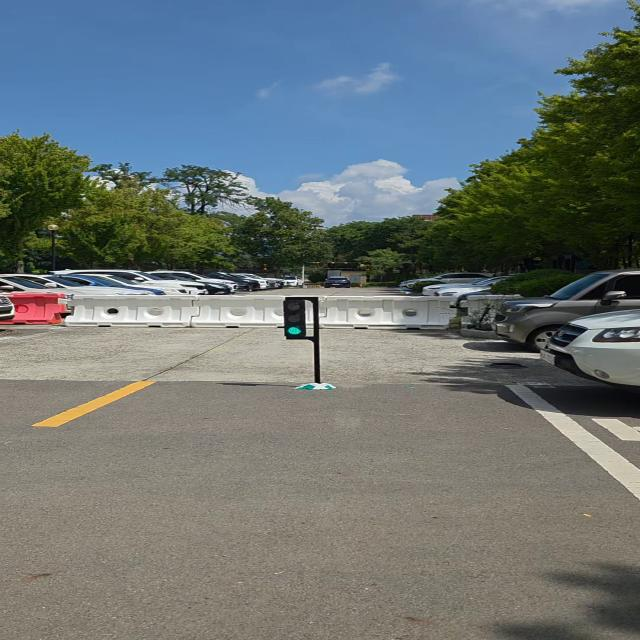green: (282, 295, 310, 340)
